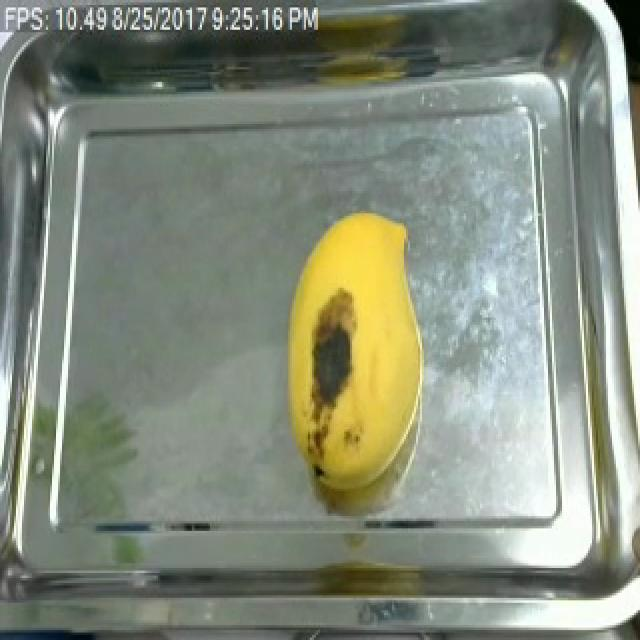fruit: (308, 198, 434, 506)
